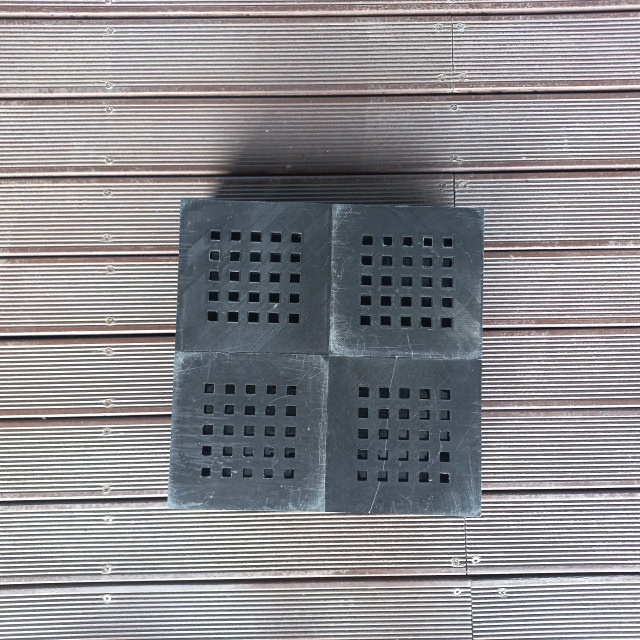pallet: (167, 188, 486, 512)
